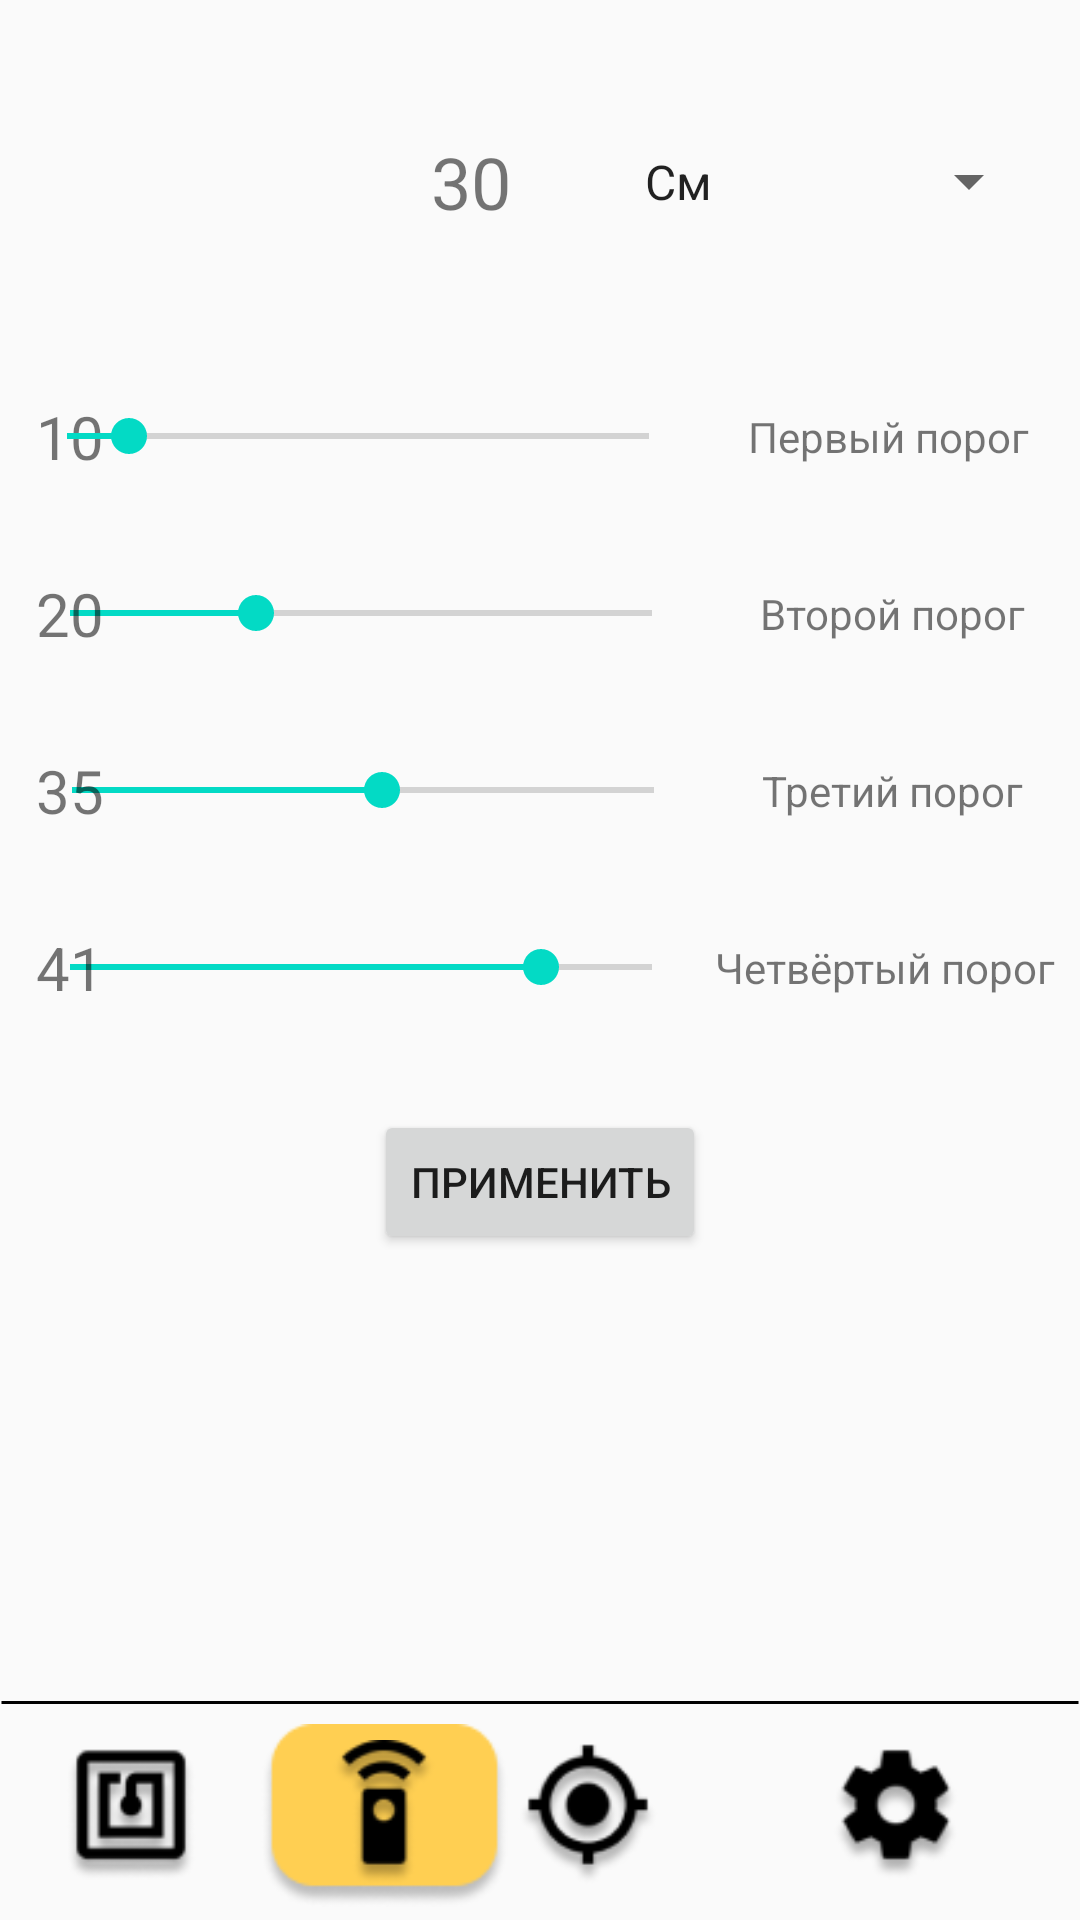

Locate icon controls on the screen. Image size 1080px x 1920px, boxes as (x1, y1, x2, y2).
setting sh: (841, 1749, 950, 1871)
